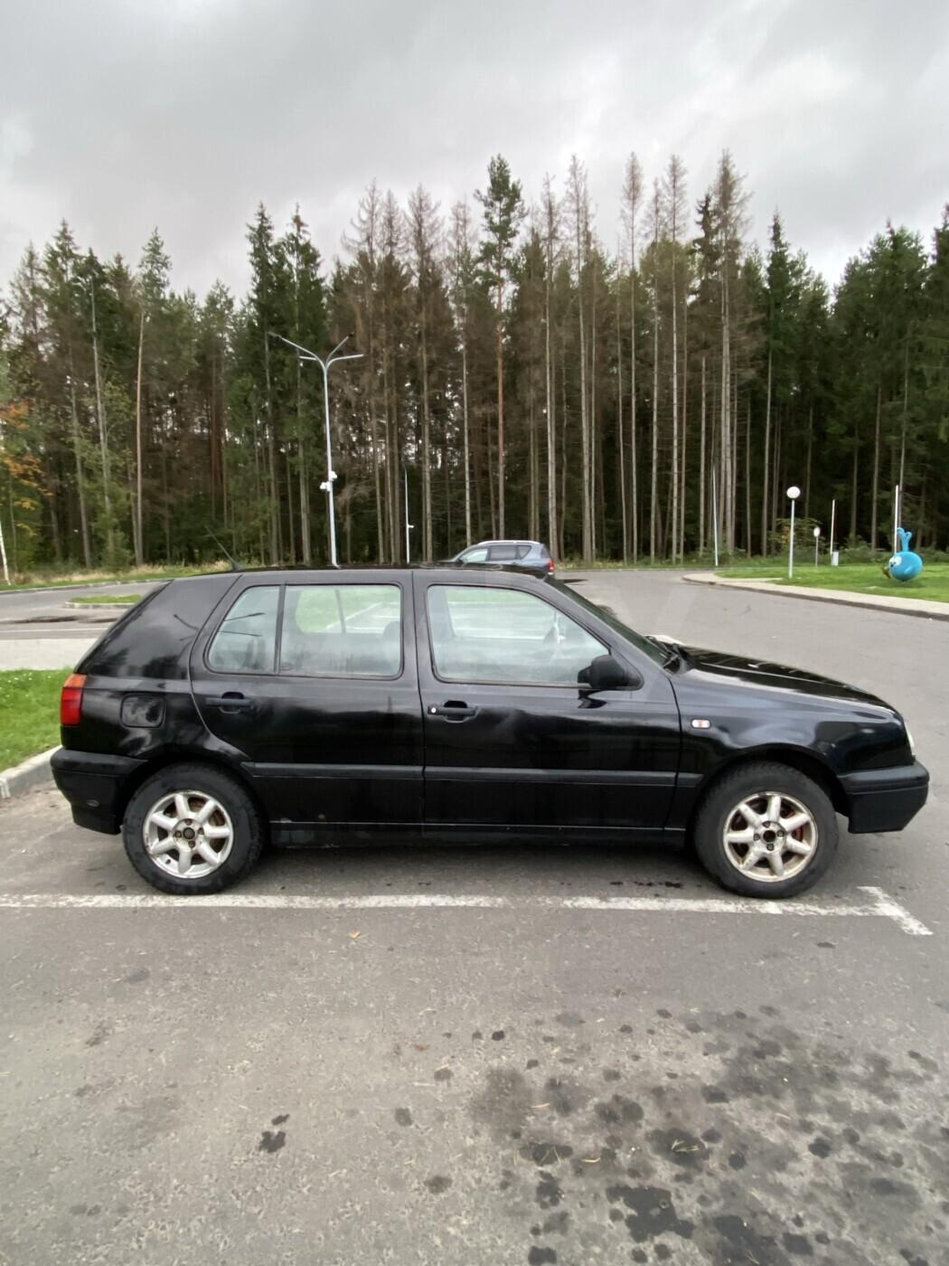Golf_1991-2000: (45, 561, 929, 915)
